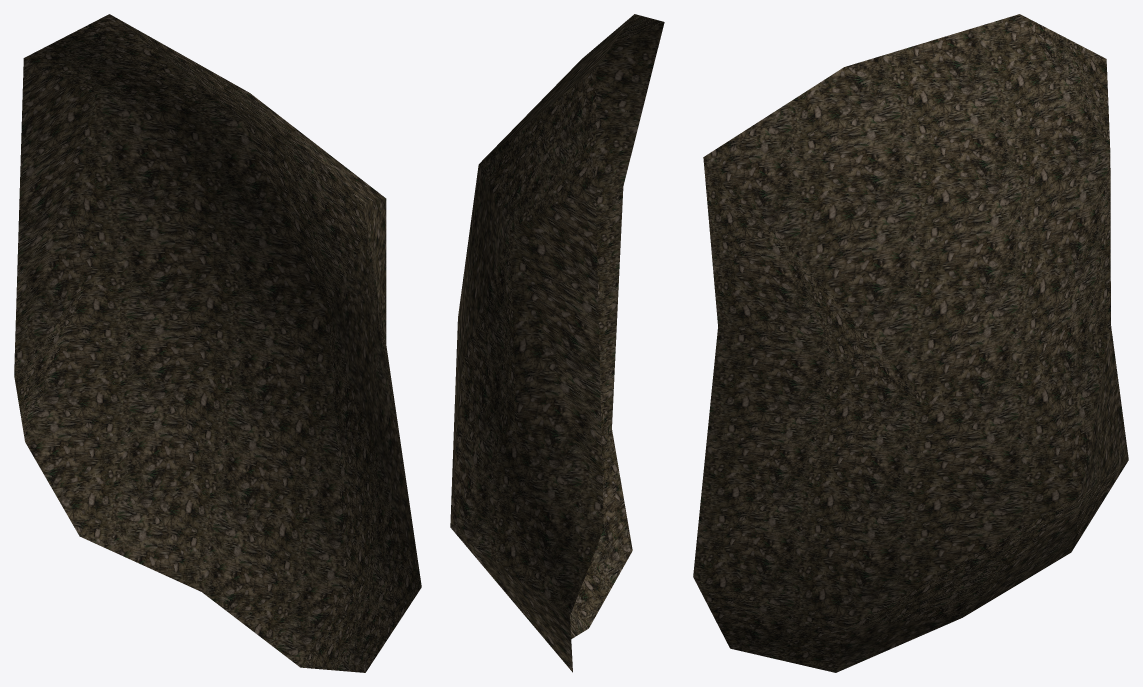
Rendered from MEP_Dirtedge_01.fbx.
3 renders of one model, left to right at view 1: azimuth 30°, elevation 25°; view 2: azimuth 150°, elevation 25°; view 3: azimuth 270°, elevation 25°, orthographic. The views are drawn at different scales.
Parts seen in each view (by area): view 1: DirtEdge_01; view 2: DirtEdge_01; view 3: DirtEdge_01.
Boxes of the visible parts, box(x1,y1,x2,y2) form: DirtEdge_01: box(14, 14, 421, 672); DirtEdge_01: box(450, 14, 664, 672); DirtEdge_01: box(693, 14, 1128, 672).
Bounding box in the file's own units: 13.38 × 34.83 × 22.52.
